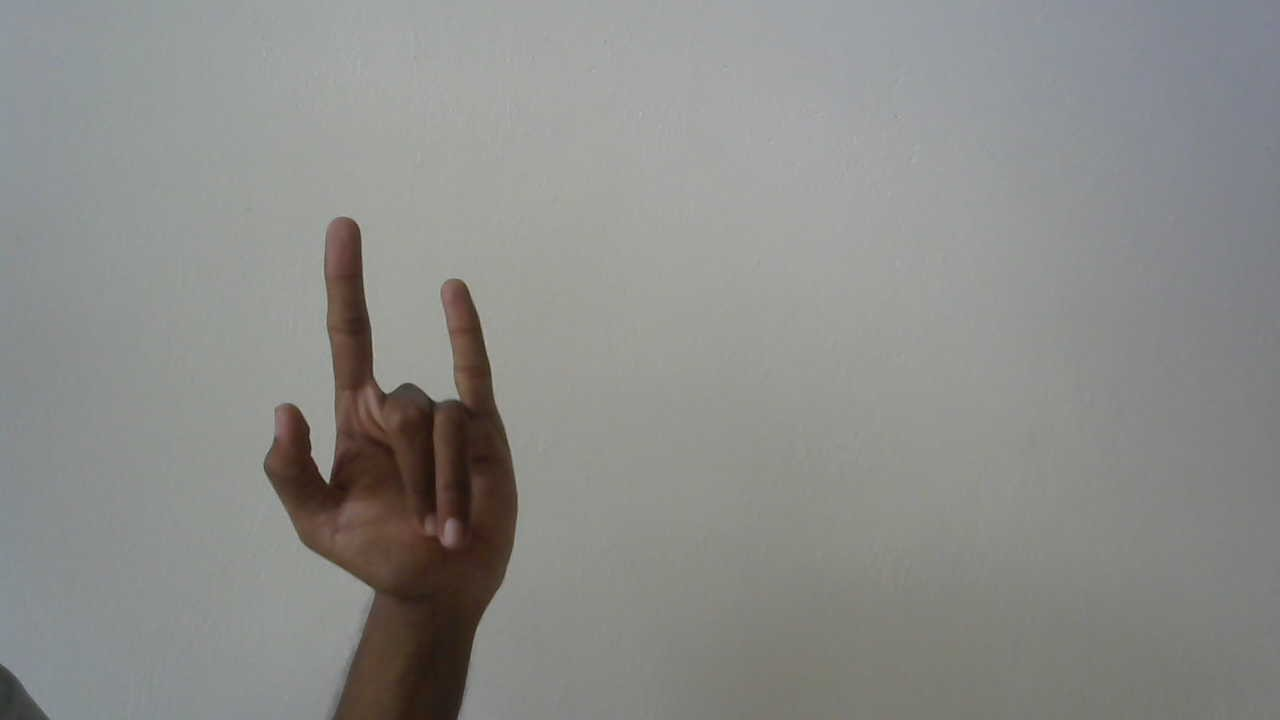iloveyou: (259, 206, 529, 621)
